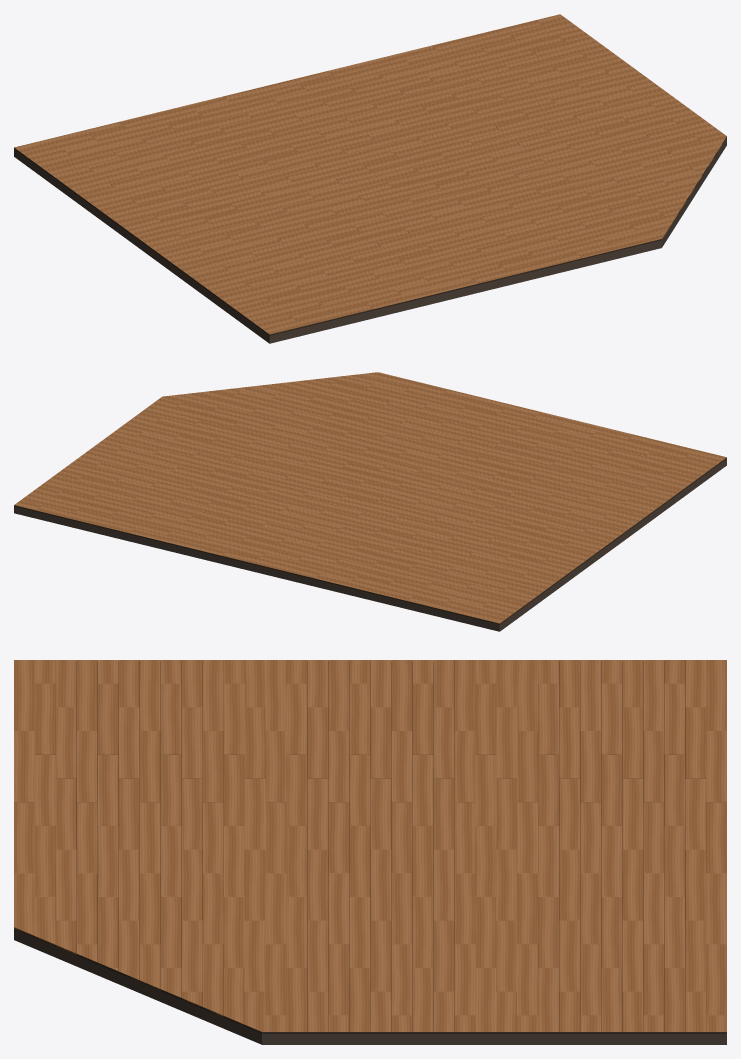
File: floor_v06a.glb
3 renders of one model, top to bottom at view 1: azimuth 30°, elevation 25°; view 2: azimuth 150°, elevation 25°; view 3: azimuth 270°, elevation 25°, orthographic. The views are drawn at different scales.
Visible parts, largest first — view 1: VIS_FloorOakPlanks, VIS_FloorCutawayPlinth, VIS_FloorJointSubstrate; view 2: VIS_FloorOakPlanks, VIS_FloorCutawayPlinth, VIS_FloorJointSubstrate; view 3: VIS_FloorOakPlanks, VIS_FloorJointSubstrate, VIS_FloorCutawayPlinth.
Part boxes in pixels (x1,y1,x2,y2): VIS_FloorOakPlanks: (14, 14, 726, 334); VIS_FloorCutawayPlinth: (14, 138, 726, 343); VIS_FloorJointSubstrate: (14, 137, 726, 335); VIS_FloorOakPlanks: (14, 372, 726, 623); VIS_FloorCutawayPlinth: (14, 459, 726, 631); VIS_FloorJointSubstrate: (14, 457, 726, 624); VIS_FloorOakPlanks: (14, 660, 726, 1031); VIS_FloorJointSubstrate: (14, 660, 726, 1033); VIS_FloorCutawayPlinth: (14, 929, 726, 1044).
Size of the model in its own units: 7.38 by 0.12 by 5.98.
3 materials, 1 textured.
